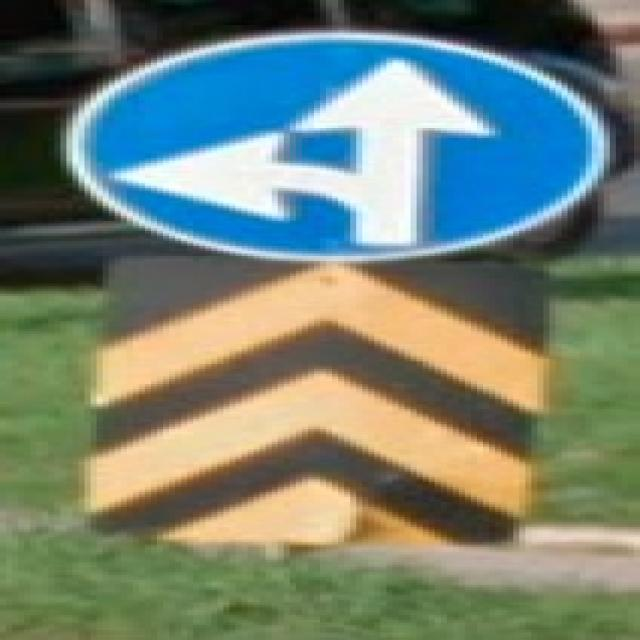Straight or Left: (64, 34, 602, 260)
